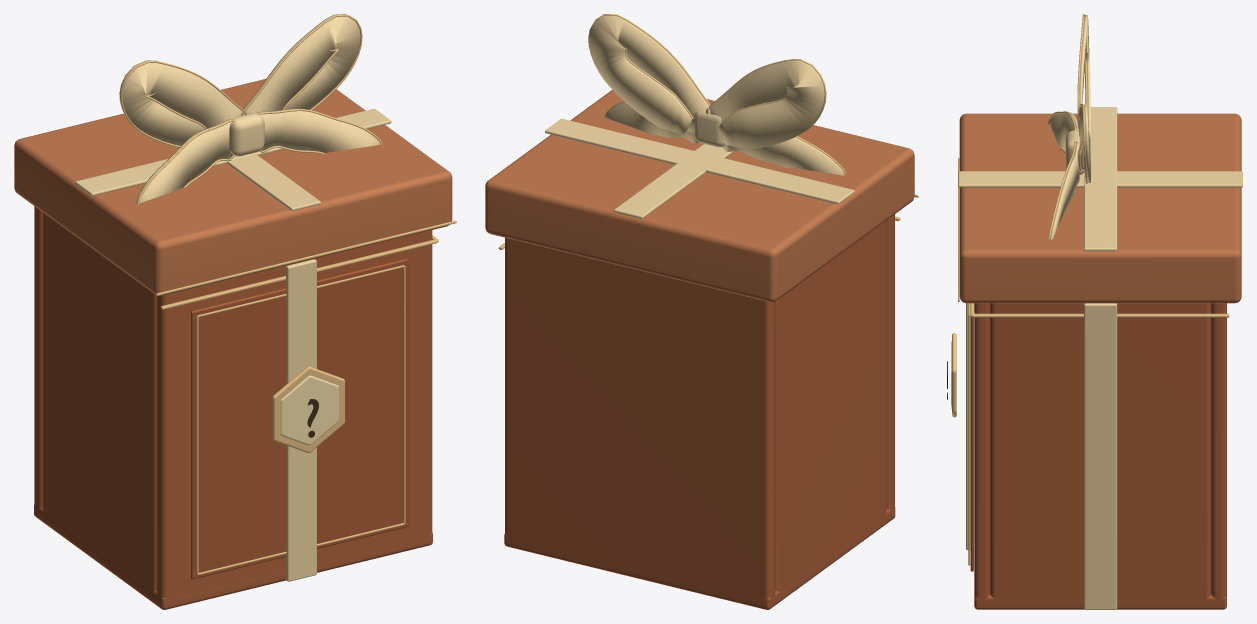
File: style-club-mystery-box-5000.glb
The picture shows the model from 3 angles, left to right: view 1: azimuth 30°, elevation 25°; view 2: azimuth 150°, elevation 25°; view 3: azimuth 270°, elevation 25°; orthographic projection. The views are drawn at different scales.
Parts seen in each view (by area): view 1: BoxInsetPanel_Front, LidShell_Main, BoxShell_Sides_-1, BoxShell_FrontBack_-1, GiftRibbon_Front, GiftRibbon_BowLoop_-1, GiftRibbon_BowLoop_1, BoxShell_Bottom, GiftRibbon_Tail_1, GiftRibbon_Tail_-1, MysterySeal_Face, BoxShell_FrontBack_1 (+10 smaller); view 2: BoxShell_FrontBack_1, LidShell_Main, BoxShell_Sides_-1, GiftRibbon_BowLoop_1, GiftRibbon_BowLoop_-1, GiftRibbon_LidCrosswise, BoxShell_Bottom, BoxShell_FrontBack_-1, GiftRibbon_LidLengthwise, GiftRibbon_Tail_-1, GiftRibbon_Tail_1, GiftRibbon_BowKnot; view 3: BoxShell_Sides_1, LidShell_Main, GiftRibbon_Right, BoxShell_FrontBack_-1, BoxShell_FrontBack_1, GiftRibbon_LidCrosswise, GiftRibbon_LidLengthwise, BoxShell_Bottom, Metal_SeamRight, BoxInsetPanel_Front, GiftRibbon_Front, GiftRibbon_Tail_1 (+5 smaller).
Boxes of the visible parts, x1,y1,x2,y2 form: BoxInsetPanel_Front: [191, 259, 408, 579]; LidShell_Main: [14, 79, 452, 295]; BoxShell_Sides_-1: [42, 212, 156, 592]; BoxShell_FrontBack_-1: [156, 230, 432, 602]; GiftRibbon_Front: [286, 259, 316, 581]; GiftRibbon_BowLoop_-1: [119, 60, 243, 145]; GiftRibbon_BowLoop_1: [243, 14, 360, 114]; BoxShell_Bottom: [34, 504, 432, 609]; GiftRibbon_Tail_1: [257, 108, 380, 152]; GiftRibbon_Tail_-1: [136, 119, 232, 203]; MysterySeal_Face: [280, 375, 339, 445]; BoxShell_FrontBack_1: [34, 206, 42, 514]; BoxShell_FrontBack_1: [505, 237, 775, 604]; LidShell_Main: [485, 90, 914, 302]; BoxShell_Sides_-1: [775, 220, 886, 592]; GiftRibbon_BowLoop_1: [588, 15, 710, 134]; GiftRibbon_BowLoop_-1: [706, 60, 824, 149]; GiftRibbon_LidCrosswise: [545, 118, 854, 204]; BoxShell_Bottom: [504, 507, 895, 609]; BoxShell_FrontBack_-1: [886, 214, 894, 512]; GiftRibbon_LidLengthwise: [614, 144, 734, 218]; GiftRibbon_Tail_-1: [722, 137, 844, 175]; GiftRibbon_Tail_1: [605, 102, 697, 143]; GiftRibbon_BowKnot: [694, 111, 725, 147]; BoxShell_Sides_1: [990, 303, 1210, 599]; LidShell_Main: [959, 113, 1241, 303]; GiftRibbon_Right: [1084, 303, 1117, 609]; BoxShell_FrontBack_-1: [974, 303, 990, 599]; BoxShell_FrontBack_1: [1211, 303, 1226, 599]; GiftRibbon_LidCrosswise: [1084, 107, 1117, 251]; GiftRibbon_LidLengthwise: [958, 171, 1242, 187]; BoxShell_Bottom: [974, 594, 1226, 609]; Metal_SeamRight: [971, 313, 1229, 317]; BoxInsetPanel_Front: [970, 317, 973, 571]; GiftRibbon_Front: [966, 303, 970, 550]; GiftRibbon_Tail_1: [1050, 141, 1079, 239].
Size of the model in its own units: 1.37 by 2.18 by 1.21.
